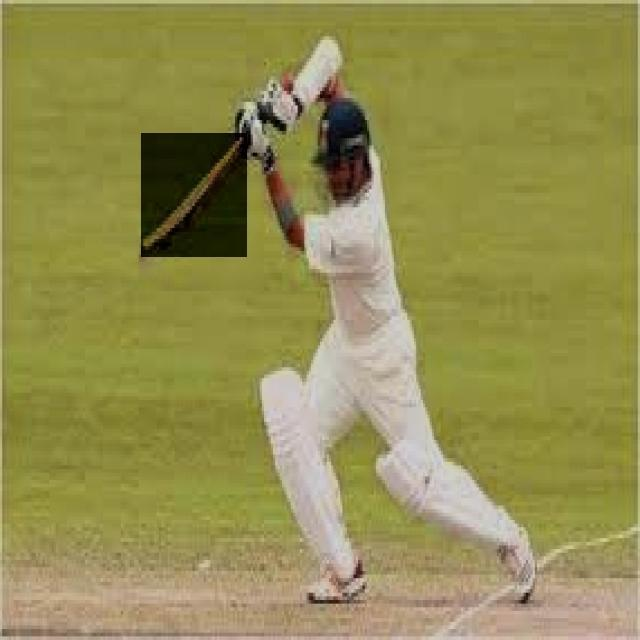bat: (143, 131, 247, 258)
